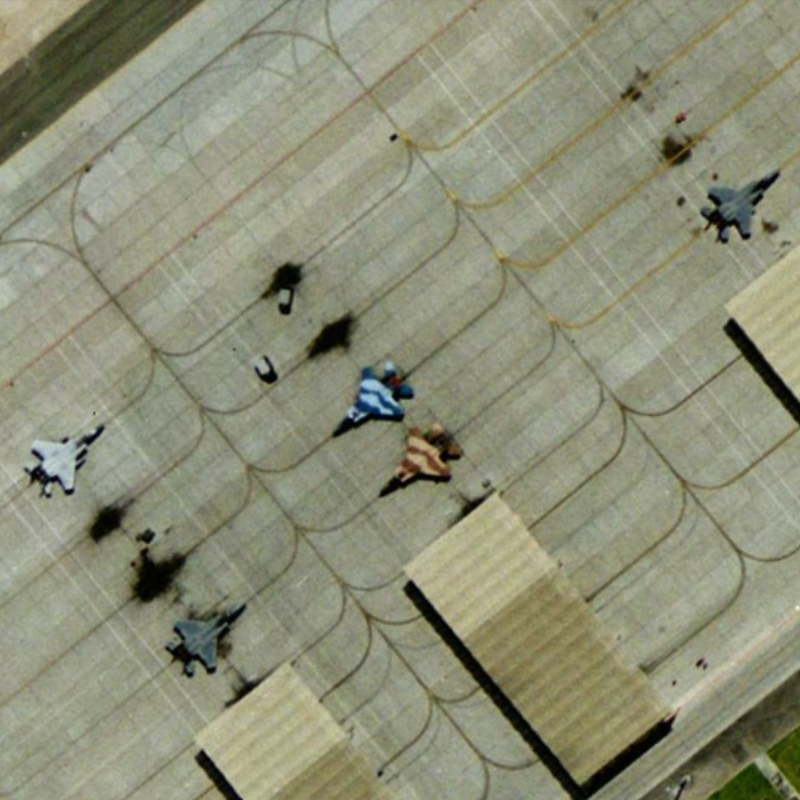A13: (319, 352, 423, 444), (375, 418, 471, 505), (167, 592, 256, 679), (21, 418, 110, 504), (693, 163, 784, 247)
